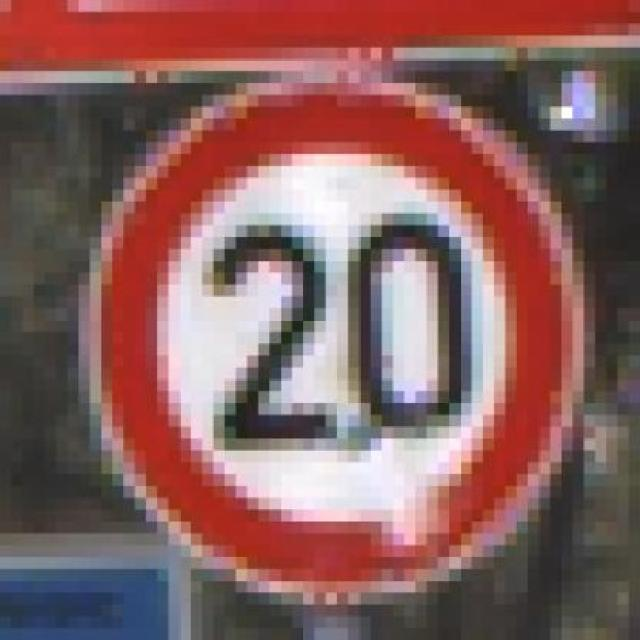forb_speed_over_20: (86, 76, 589, 602)
